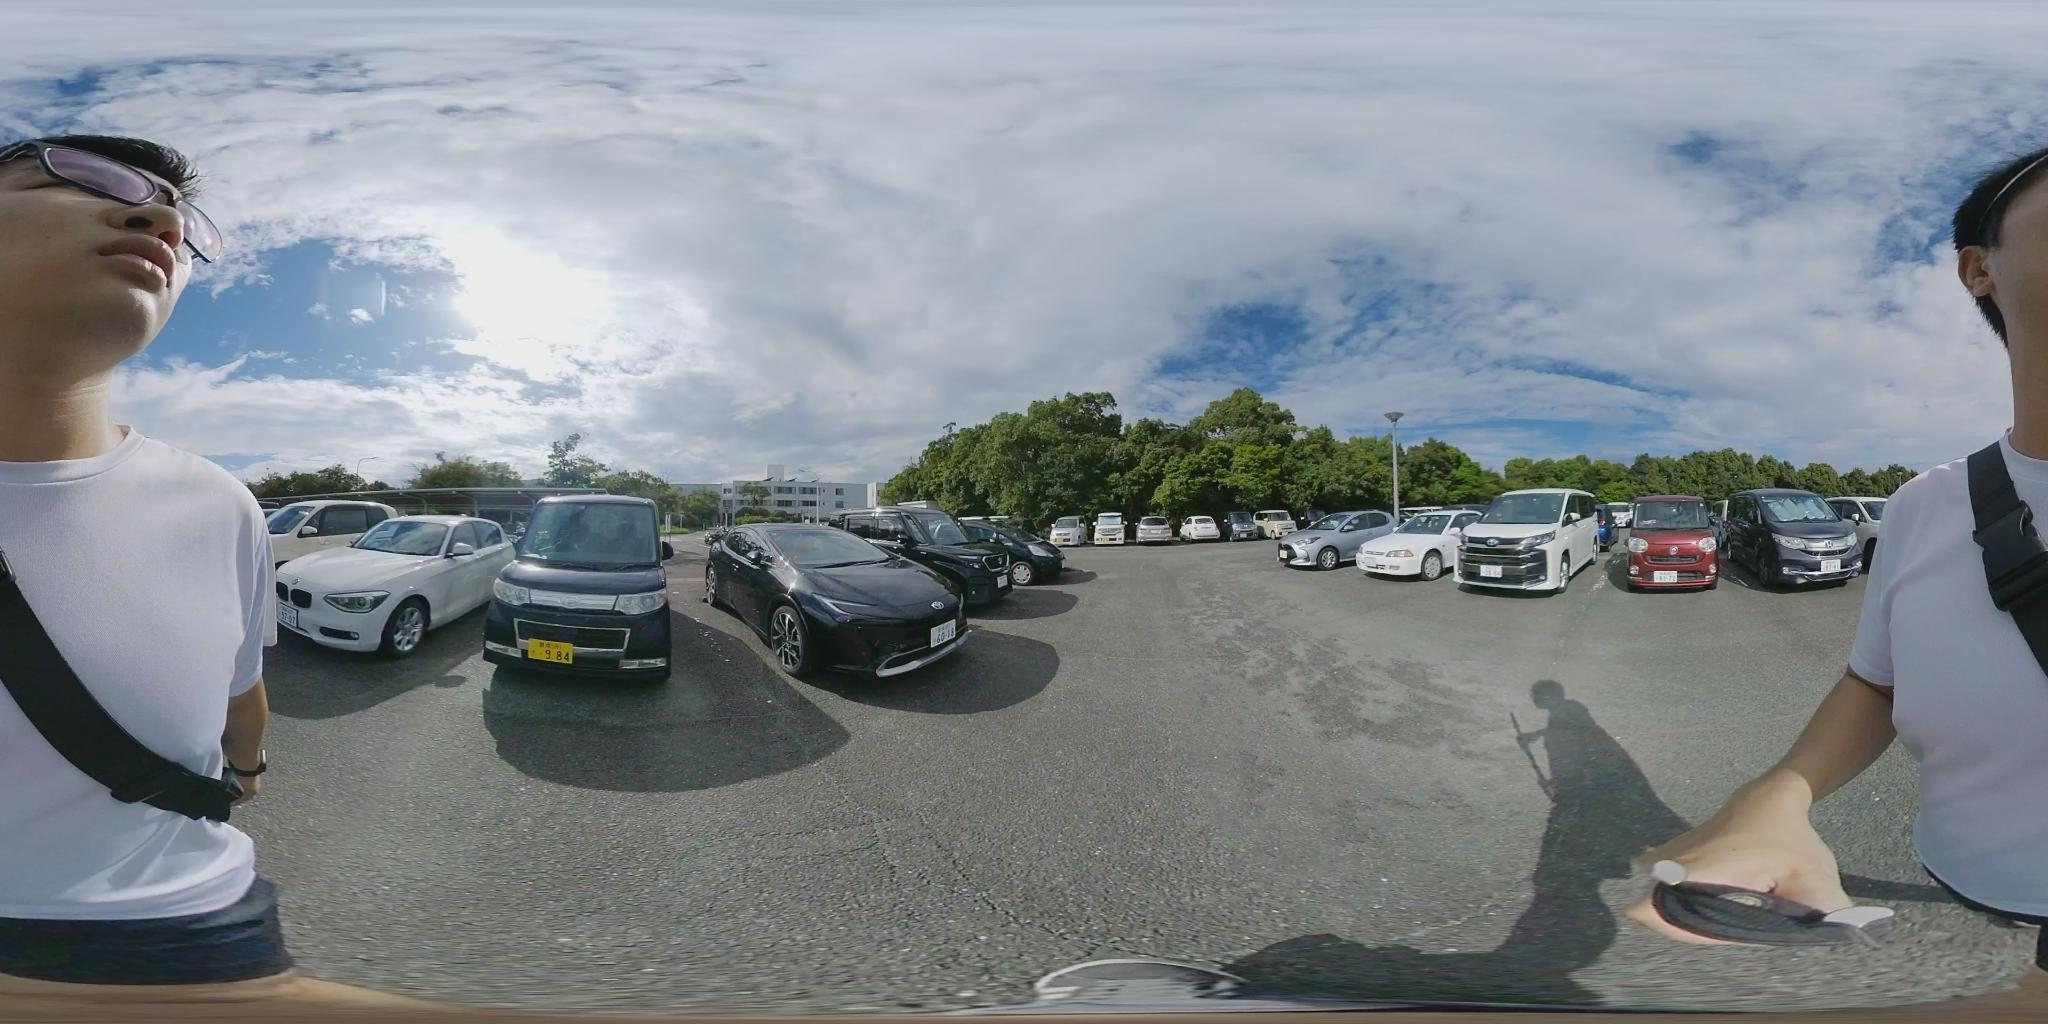car: (697, 522, 974, 680), (488, 494, 682, 678), (278, 513, 522, 654), (829, 512, 1017, 602), (1721, 491, 1881, 593), (1456, 492, 1596, 597), (1620, 499, 1723, 590), (940, 517, 1071, 585), (1356, 511, 1479, 581), (265, 499, 391, 566), (1275, 512, 1401, 569), (1178, 519, 1224, 543), (1223, 515, 1259, 541)
